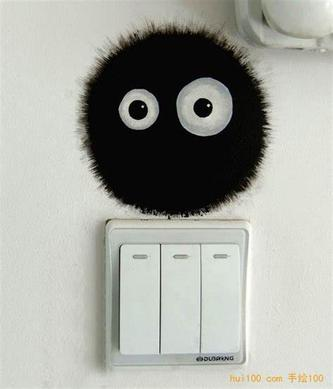switch: (116, 238, 166, 361), (156, 242, 206, 358), (195, 239, 244, 356)
